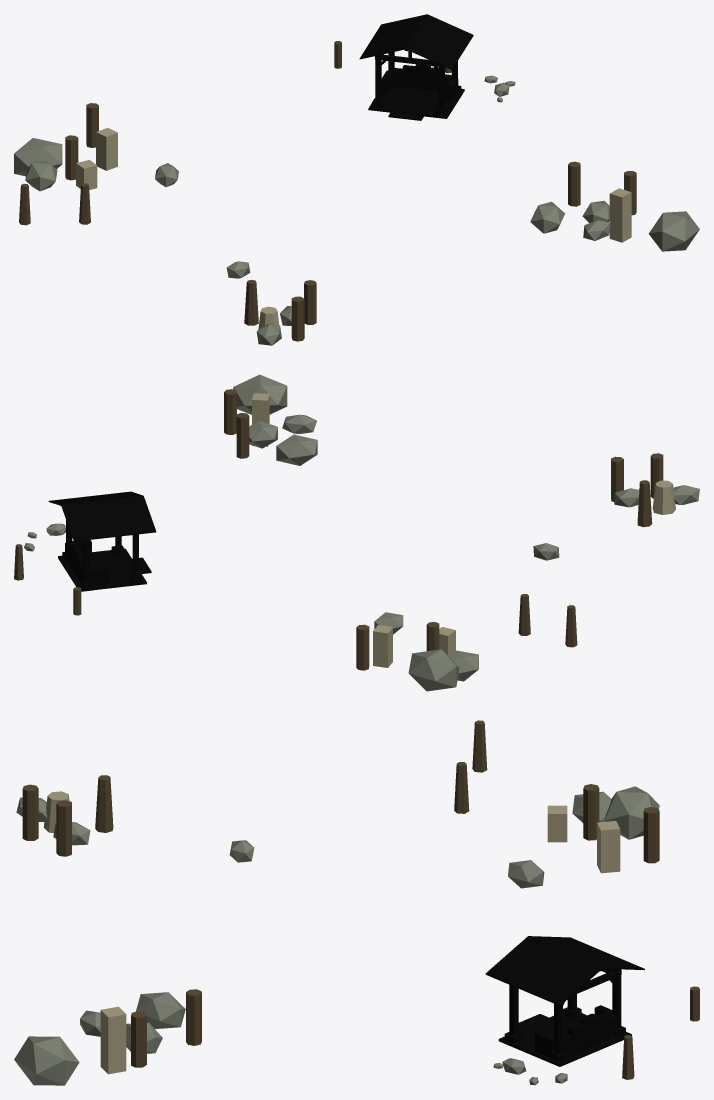
The model's file is path_crossroads_copse_solid_props.fbx.
3 views of the same model, one above another, from view 1: azimuth 30°, elevation 25°; view 2: azimuth 150°, elevation 25°; view 3: azimuth 270°, elevation 25° (orthographic). The views are drawn at different scales.
Parts seen in each view (by area): view 1: chunk_path_crossroads_copse__PropsSolid; view 2: chunk_path_crossroads_copse__PropsSolid; view 3: chunk_path_crossroads_copse__PropsSolid.
Part boxes in pixels (x1=…): chunk_path_crossroads_copse__PropsSolid: x1=14, y1=14, x2=699, y2=345; chunk_path_crossroads_copse__PropsSolid: x1=14, y1=374, x2=699, y2=691; chunk_path_crossroads_copse__PropsSolid: x1=14, y1=720, x2=699, y2=1085.
Bounding box in the file's own units: 191 × 28.71 × 175.
